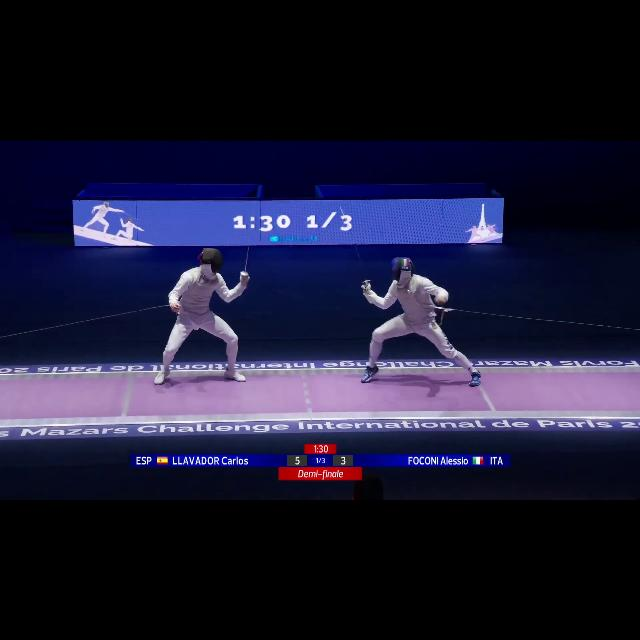blade: (339, 203, 376, 289), (238, 242, 254, 286)
